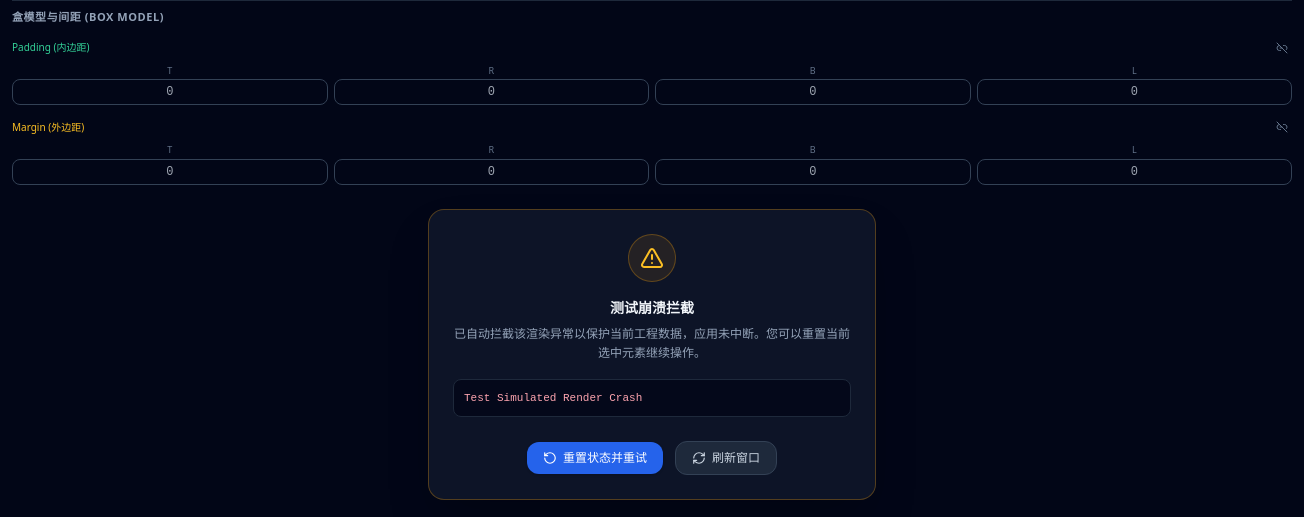
Scenario: ISSUE-018: 画框元素多次点选与 SVG 面包屑防崩溃测试 › CHK-F-04: ErrorBoundary 拦截子组件异常并支持重置状态恢复
Click the button "重置状态并重试" at (595, 458), box [527,442,663,474]
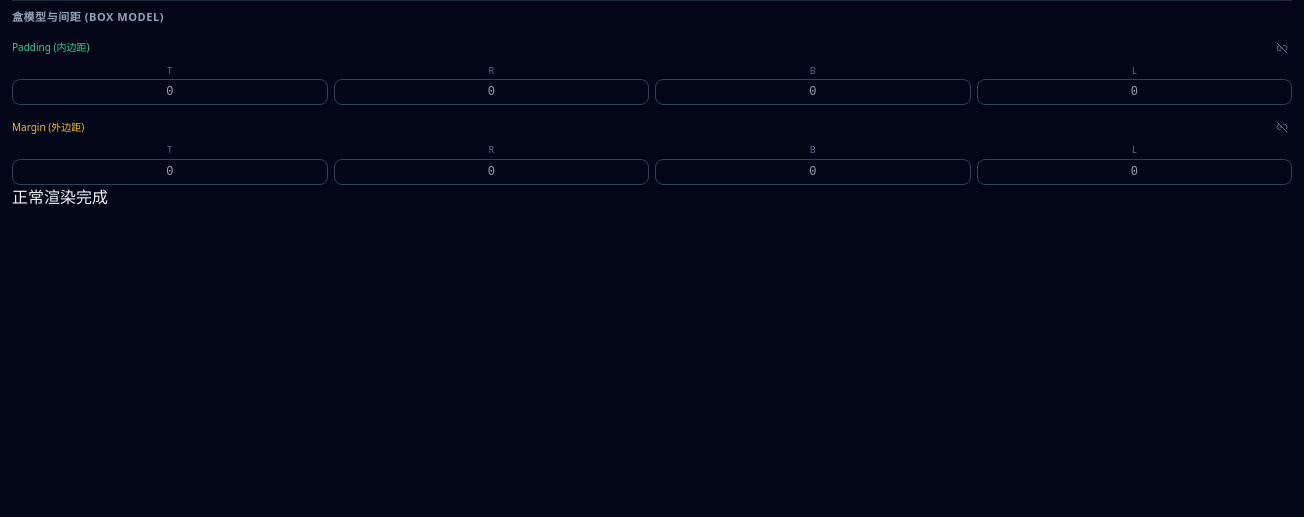
Check: the text "正常渲染完成" is shown, box [12,186,108,208]
